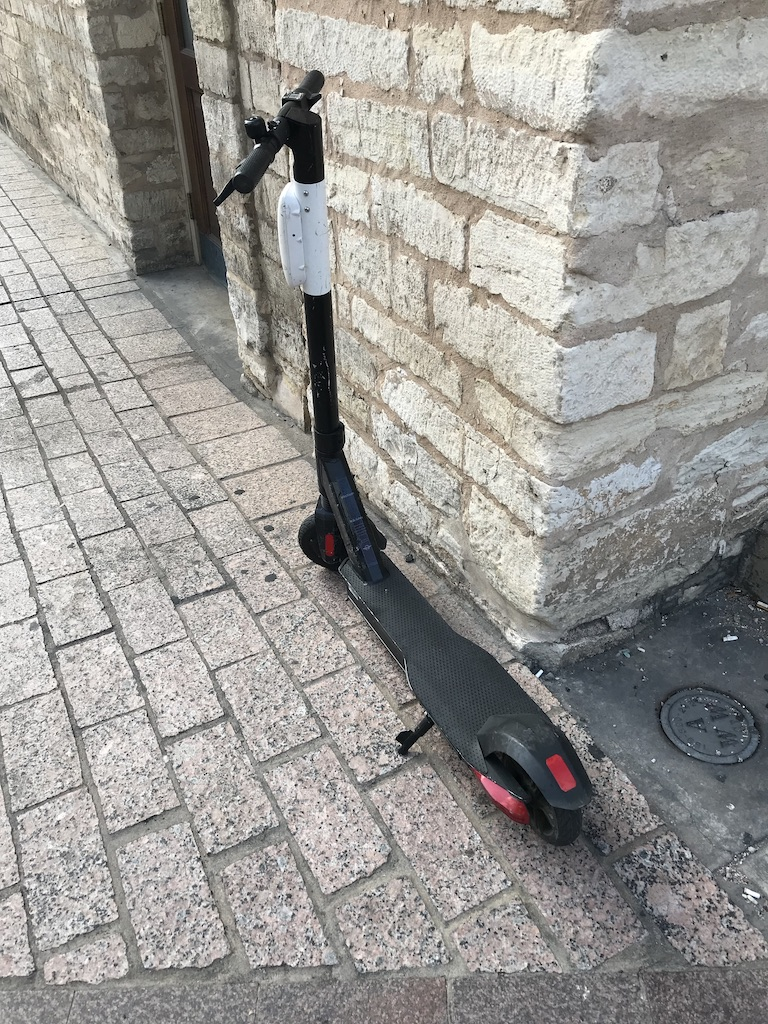scooter: (211, 70, 595, 848)
